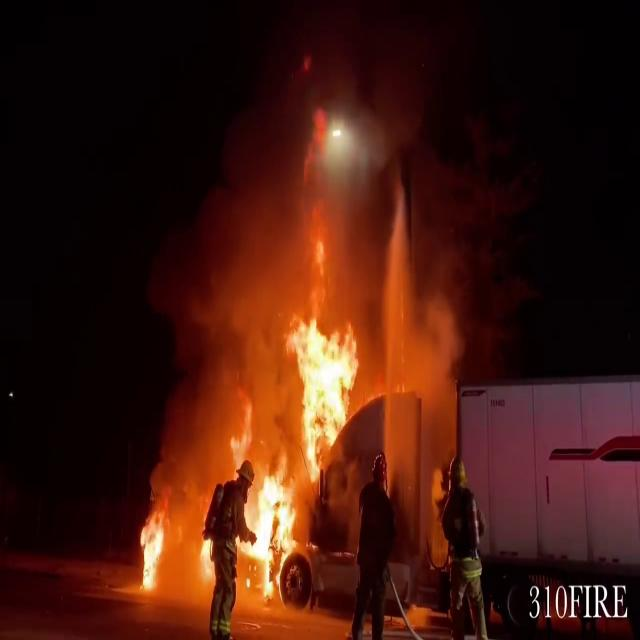Fire: (240, 289, 368, 600), (135, 504, 168, 595)
